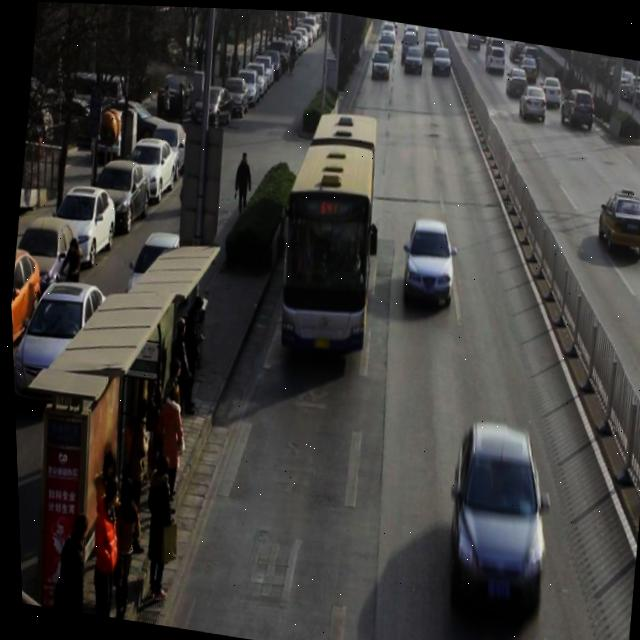car: (434, 414, 558, 615), (396, 212, 458, 306), (592, 179, 640, 256), (557, 82, 597, 127), (515, 78, 548, 119), (537, 70, 563, 105), (429, 41, 454, 76), (503, 62, 529, 94), (369, 46, 392, 79), (401, 41, 424, 73)
van: (267, 101, 387, 359)
